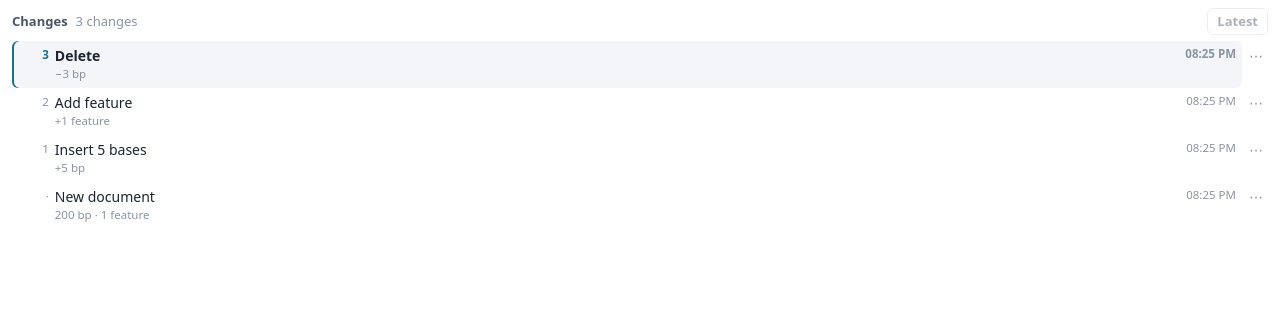
HistoryPanel naming (#4) › does not offer to name the starting state, which is not a step
Click the button named "Actions for New document": (1256, 197) [1244, 185, 1268, 209]
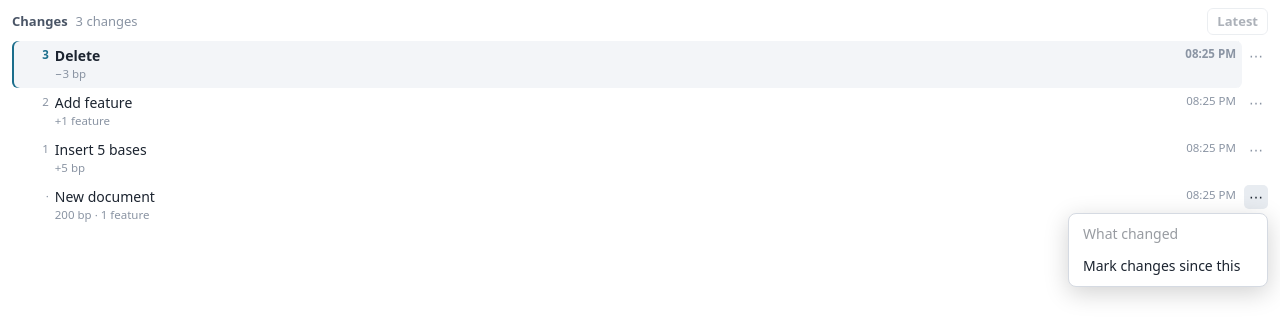
expect the menu item "What changed" is disabled: met, box [1073, 218, 1263, 250]
